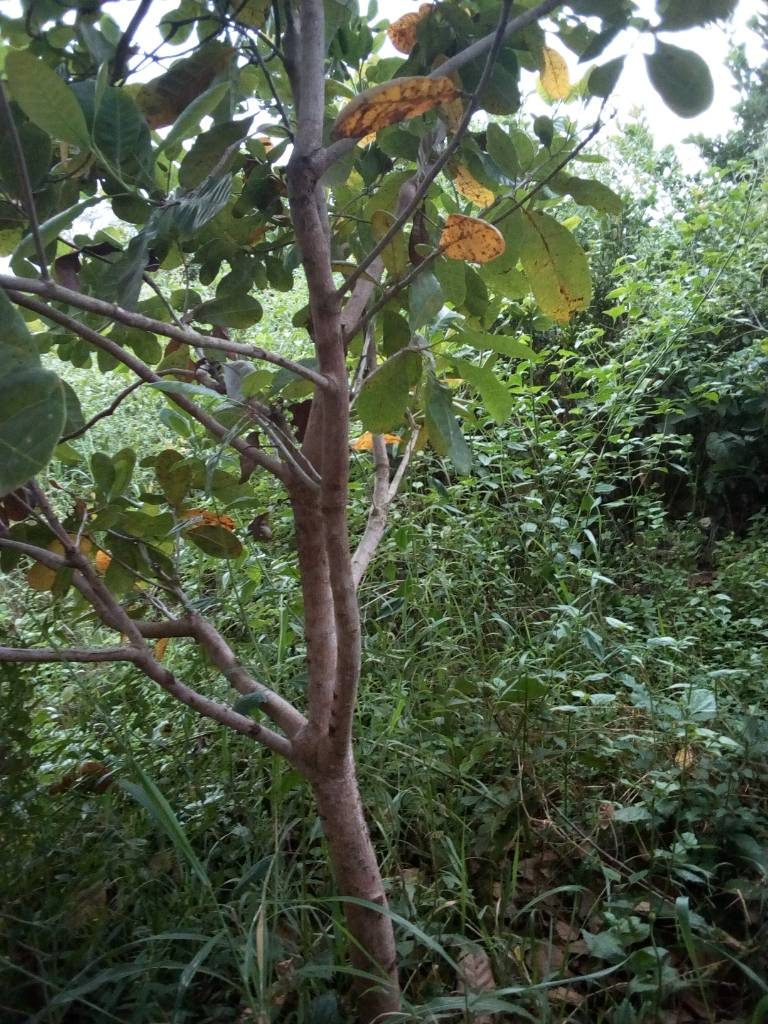Bactériose: (335, 77, 479, 138), (527, 217, 593, 322), (438, 216, 505, 263)
